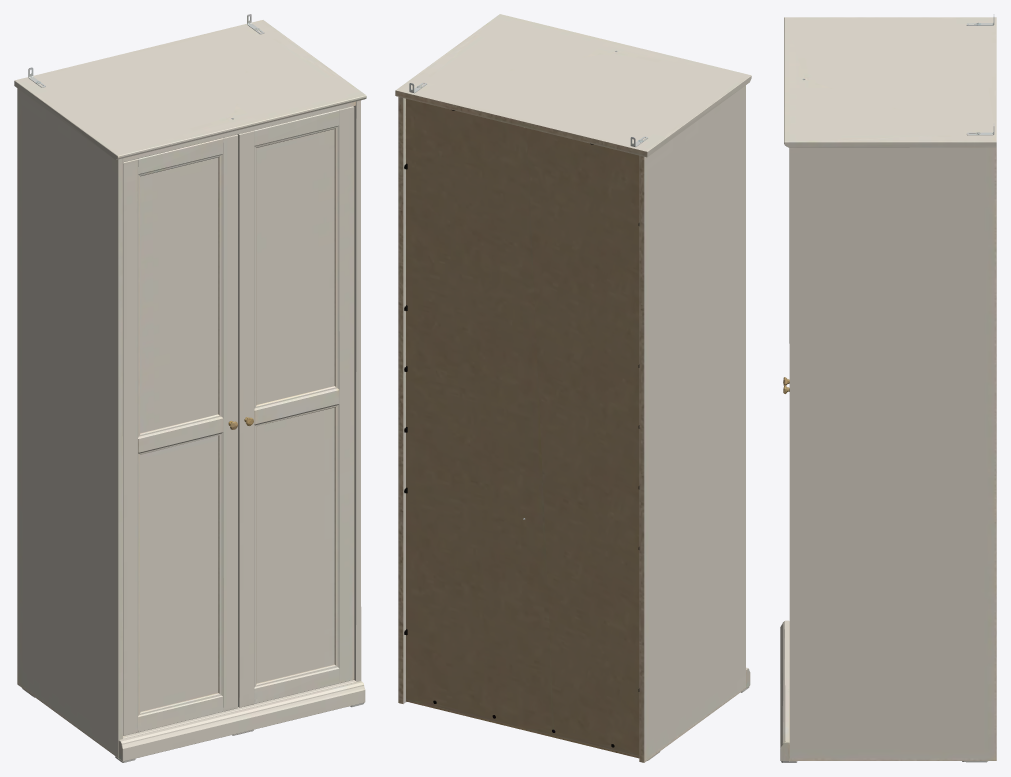
3 views of the same model, side by side, from view 1: azimuth 30°, elevation 25°; view 2: azimuth 150°, elevation 25°; view 3: azimuth 270°, elevation 25° (orthographic). The views are drawn at different scales.
Parts seen in each view (by area): view 1: 01bf0725-cc57-4f6f-831f-2f3489385de2; view 2: 01bf0725-cc57-4f6f-831f-2f3489385de2; view 3: 01bf0725-cc57-4f6f-831f-2f3489385de2.
Boxes of the visible parts, <box> form: 01bf0725-cc57-4f6f-831f-2f3489385de2: <box>14,14,366,762</box>; 01bf0725-cc57-4f6f-831f-2f3489385de2: <box>395,14,751,762</box>; 01bf0725-cc57-4f6f-831f-2f3489385de2: <box>780,14,996,762</box>.
Bounding box in the file's own units: 0.8199 × 1.94 × 0.5999.
Materials: 1 (1 with a texture image).
